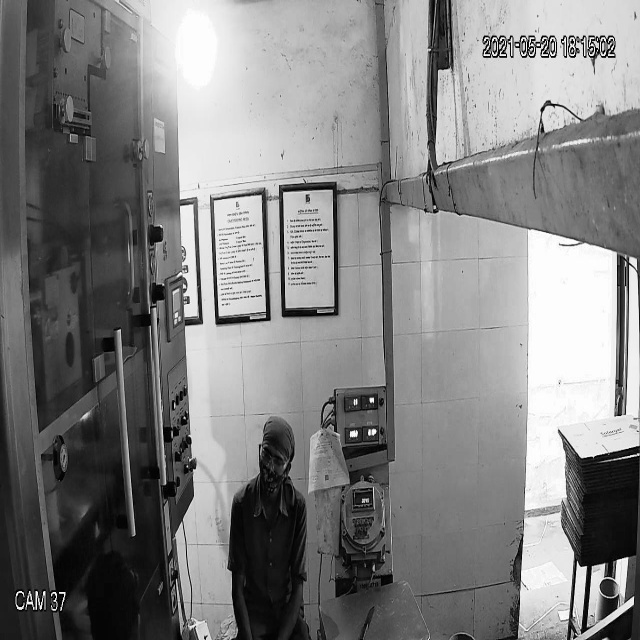Gafas: (255, 444, 291, 476)
